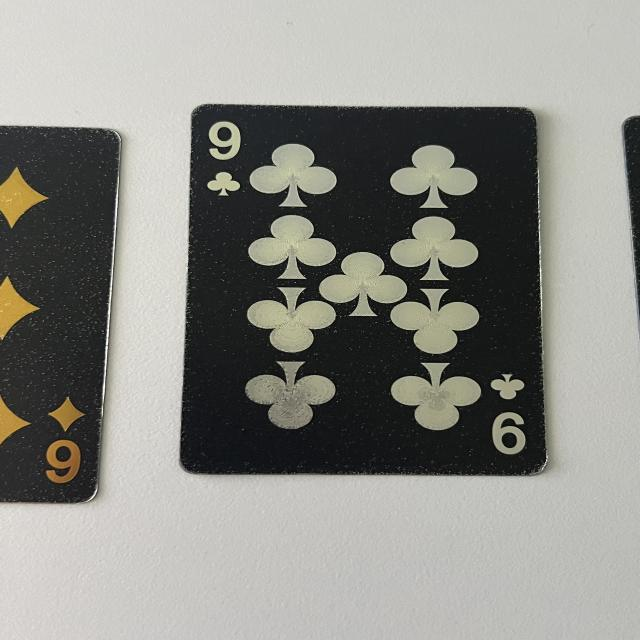6D: (33, 392, 98, 497)
9C: (489, 372, 537, 461), (199, 118, 248, 204)
